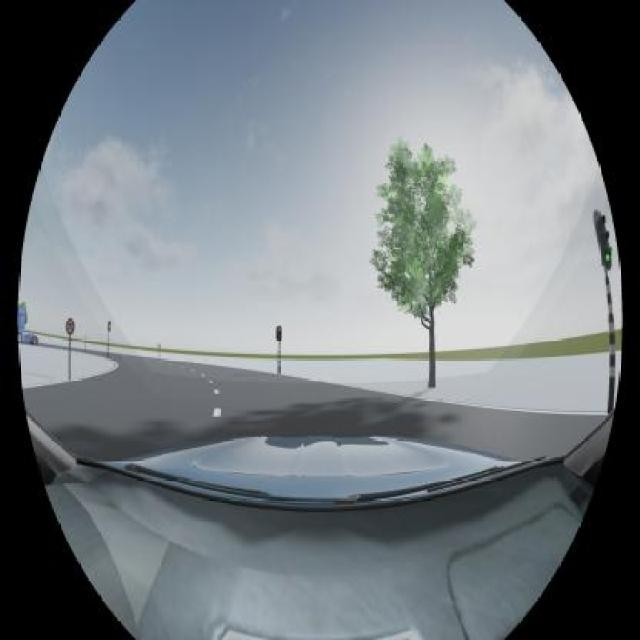forb_speed_over_70: (66, 317, 74, 335)
